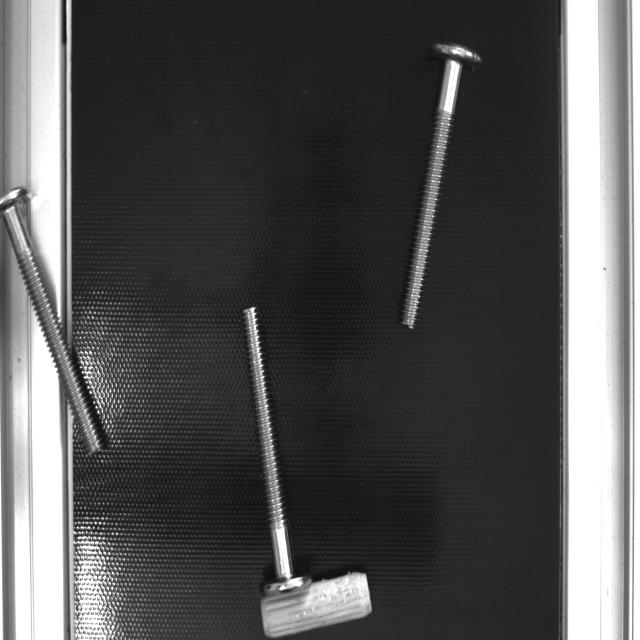Chot go: (259, 570, 375, 639)
bulon: (0, 204, 108, 458), (397, 61, 464, 332), (238, 304, 296, 581)
